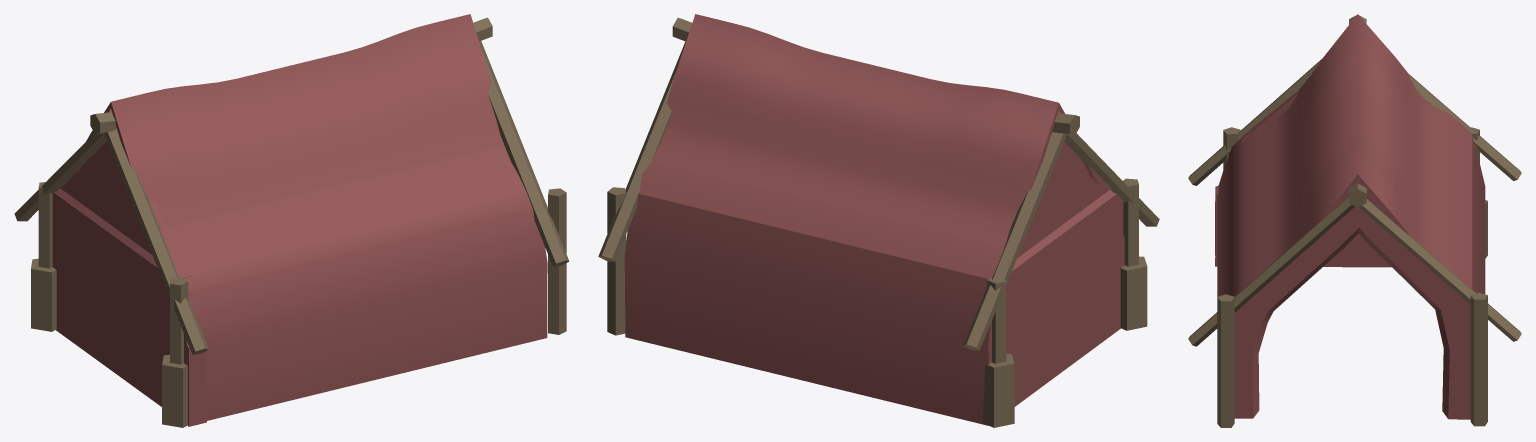
File: Tent.fbx
The picture shows the model from 3 angles, left to right: view 1: azimuth 30°, elevation 25°; view 2: azimuth 150°, elevation 25°; view 3: azimuth 270°, elevation 25°; orthographic projection. The views are drawn at different scales.
Visible parts, largest first — view 1: pCylinder15; view 2: pCylinder15; view 3: pCylinder15.
Boxes of the visible parts, x1=… form: pCylinder15: x1=14, y1=14, x2=569, y2=427; pCylinder15: x1=598, y1=14, x2=1159, y2=427; pCylinder15: x1=1188, y1=14, x2=1521, y2=427.
Bounding box in the file's own units: 632 × 407 × 501.
